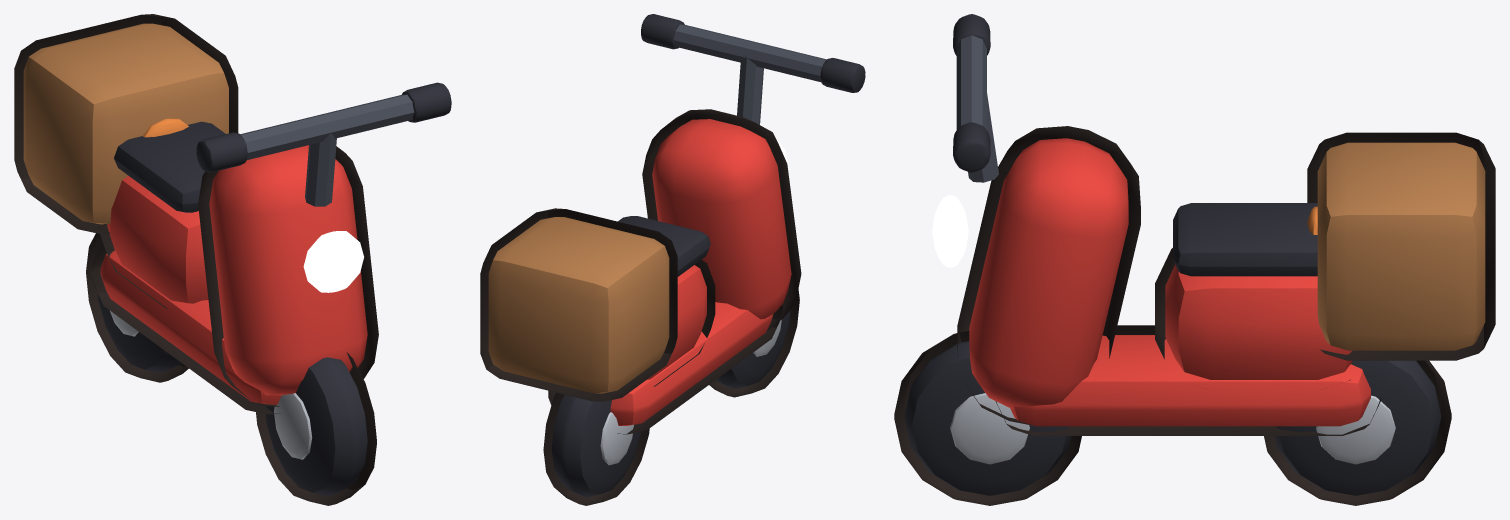
The model's file is Scooter_Delivery.fbx.
3 renders of one model, left to right at view 1: azimuth 30°, elevation 25°; view 2: azimuth 150°, elevation 25°; view 3: azimuth 270°, elevation 25°, orthographic. The views are drawn at different scales.
Parts seen in each view (by area): view 1: VH_Scooter_Delivery_Red, VH_Scooter_Delivery_Wood, VH_Scooter_Delivery_Black, VH_Scooter_Delivery_Outline, VH_Scooter_Delivery_Metal, VH_Scooter_Delivery_LampWarm, VH_Scooter_Delivery_MetalLight, VH_Scooter_Delivery_RoofOrange; view 2: VH_Scooter_Delivery_Red, VH_Scooter_Delivery_Wood, VH_Scooter_Delivery_Outline, VH_Scooter_Delivery_Black, VH_Scooter_Delivery_Metal, VH_Scooter_Delivery_MetalLight; view 3: VH_Scooter_Delivery_Red, VH_Scooter_Delivery_Wood, VH_Scooter_Delivery_Black, VH_Scooter_Delivery_Outline, VH_Scooter_Delivery_MetalLight, VH_Scooter_Delivery_Metal, VH_Scooter_Delivery_LampWarm.
Boxes of the visible parts, x1=… form: VH_Scooter_Delivery_Red: x1=100, y1=145, x2=367, y2=404; VH_Scooter_Delivery_Wood: x1=23, y1=23, x2=228, y2=224; VH_Scooter_Delivery_Black: x1=97, y1=82, x2=451, y2=495; VH_Scooter_Delivery_Outline: x1=14, y1=14, x2=378, y2=505; VH_Scooter_Delivery_Metal: x1=240, y1=94, x2=414, y2=206; VH_Scooter_Delivery_LampWarm: x1=303, y1=231, x2=363, y2=292; VH_Scooter_Delivery_MetalLight: x1=109, y1=310, x2=312, y2=459; VH_Scooter_Delivery_RoofOrange: x1=143, y1=118, x2=188, y2=137; VH_Scooter_Delivery_Red: x1=610, y1=119, x2=791, y2=425; VH_Scooter_Delivery_Wood: x1=488, y1=217, x2=669, y2=393; VH_Scooter_Delivery_Outline: x1=480, y1=109, x2=801, y2=505; VH_Scooter_Delivery_Black: x1=551, y1=14, x2=865, y2=497; VH_Scooter_Delivery_Metal: x1=673, y1=24, x2=826, y2=124; VH_Scooter_Delivery_MetalLight: x1=600, y1=319, x2=781, y2=465; VH_Scooter_Delivery_Red: x1=969, y1=138, x2=1370, y2=426; VH_Scooter_Delivery_Wood: x1=1317, y1=142, x2=1485, y2=350; VH_Scooter_Delivery_Black: x1=904, y1=14, x2=1441, y2=495; VH_Scooter_Delivery_Outline: x1=894, y1=126, x2=1495, y2=505; VH_Scooter_Delivery_MetalLight: x1=950, y1=393, x2=1395, y2=464; VH_Scooter_Delivery_Metal: x1=956, y1=35, x2=998, y2=182; VH_Scooter_Delivery_LampWarm: x1=932, y1=195, x2=968, y2=267.
Size of the model in its own units: 1 by 1.55 by 1.97.
